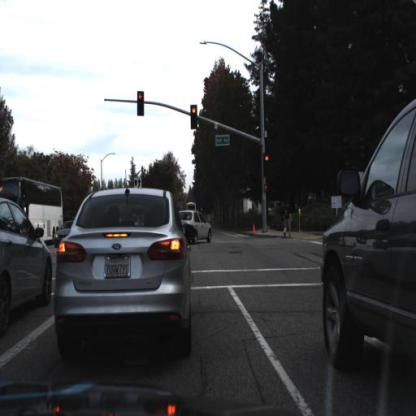car: (318, 96, 416, 376), (57, 186, 194, 362), (1, 196, 55, 334), (181, 210, 217, 246), (180, 209, 215, 245), (54, 220, 78, 248)
pedestrian: (284, 200, 295, 238), (280, 202, 287, 237)
trafficLight-Red: (263, 153, 273, 180), (190, 103, 199, 131)
trafficLight-RedLeft: (137, 90, 146, 120)
truck: (2, 180, 63, 238)
